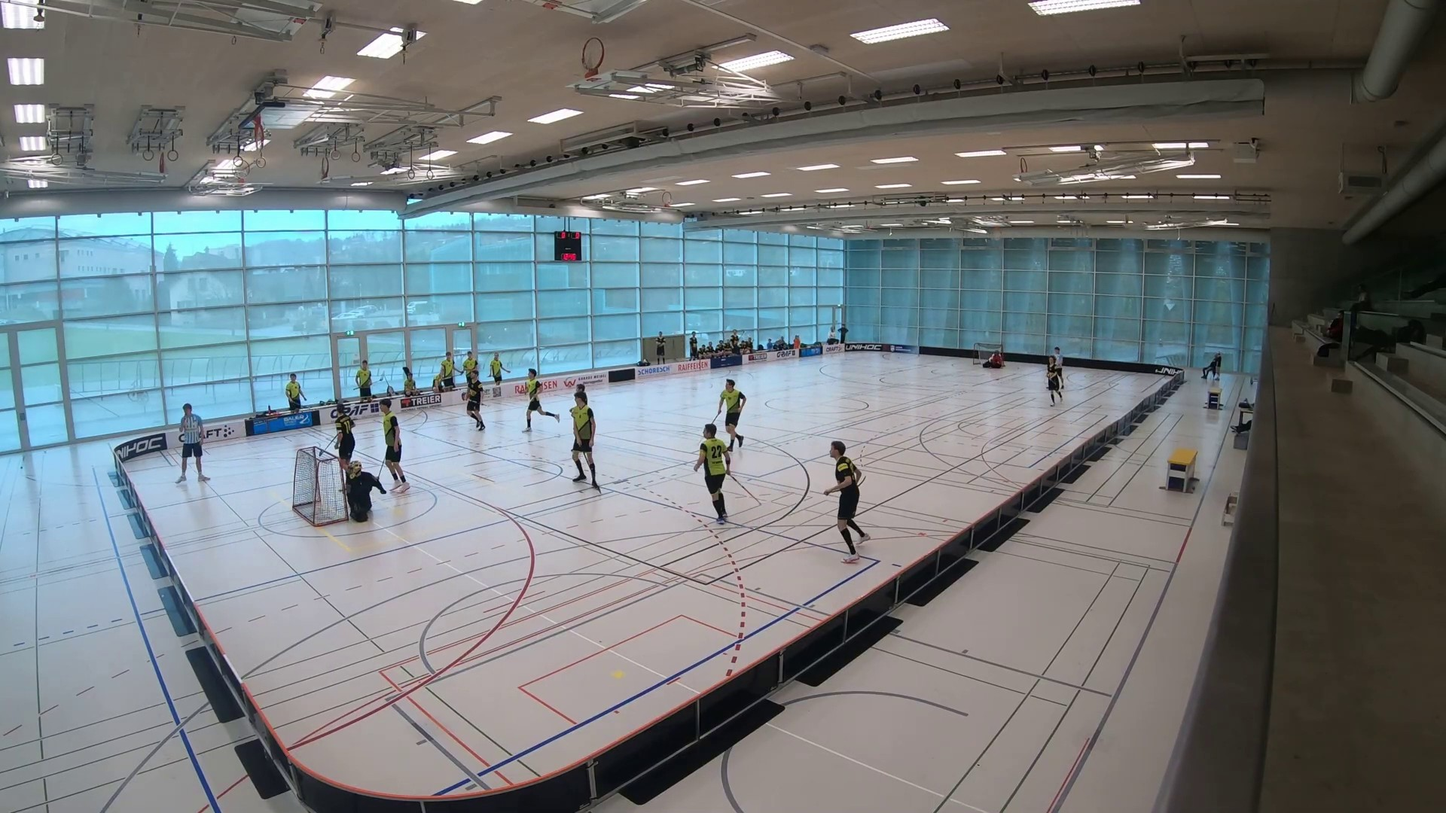goalkeeper: (345, 462, 386, 521), (982, 351, 1003, 368)
player: (823, 441, 869, 562), (694, 423, 730, 523), (570, 392, 599, 489), (380, 398, 409, 493), (524, 368, 560, 431), (715, 379, 746, 449), (334, 405, 355, 477), (466, 370, 485, 430), (1046, 357, 1062, 404), (575, 382, 585, 394)
